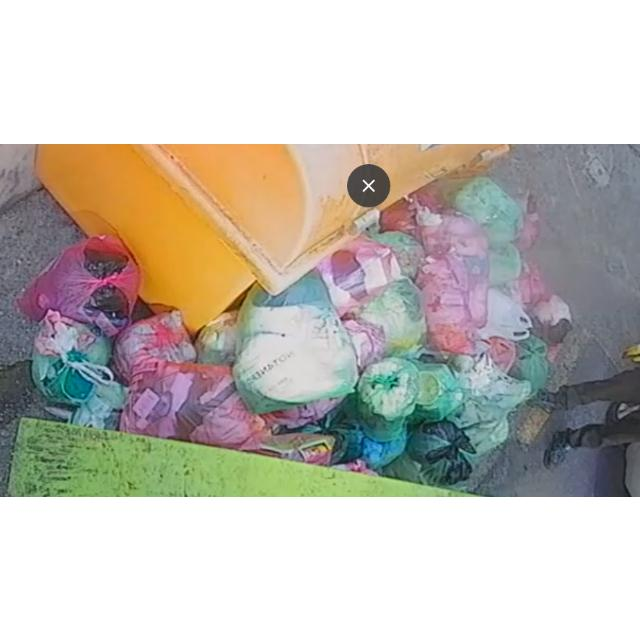general_trashbag: (234, 269, 359, 413), (448, 352, 531, 454), (32, 309, 112, 405), (382, 420, 475, 486), (354, 277, 426, 355), (358, 357, 419, 442), (455, 177, 522, 240), (411, 359, 464, 420), (372, 230, 424, 279), (509, 334, 549, 392)
other_trashbag: (114, 312, 264, 450), (16, 234, 141, 336), (416, 207, 489, 354), (318, 236, 401, 314), (114, 310, 196, 384)
